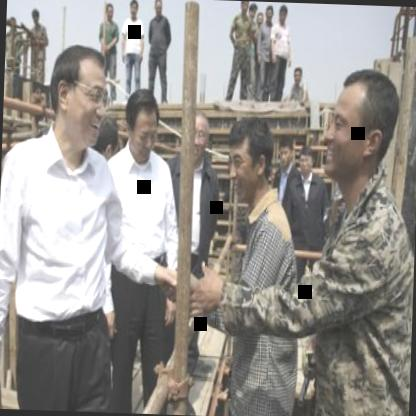head: (326, 63, 401, 185), (45, 39, 109, 149), (227, 112, 275, 200), (123, 86, 161, 160), (181, 110, 213, 166), (274, 134, 296, 172), (297, 144, 318, 178), (127, 0, 142, 22), (292, 66, 306, 89), (103, 0, 115, 24), (277, 2, 289, 26), (151, 0, 166, 18), (254, 8, 264, 30), (264, 5, 276, 23), (249, 2, 258, 24), (240, 1, 251, 15)
